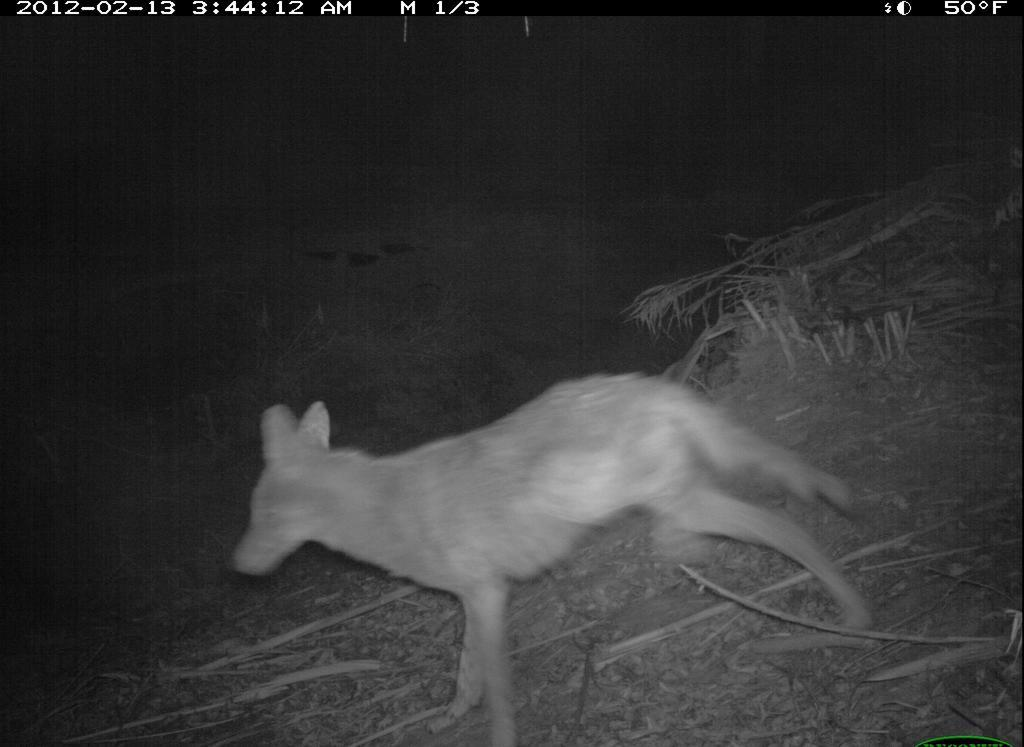coyote: (226, 365, 873, 738)
